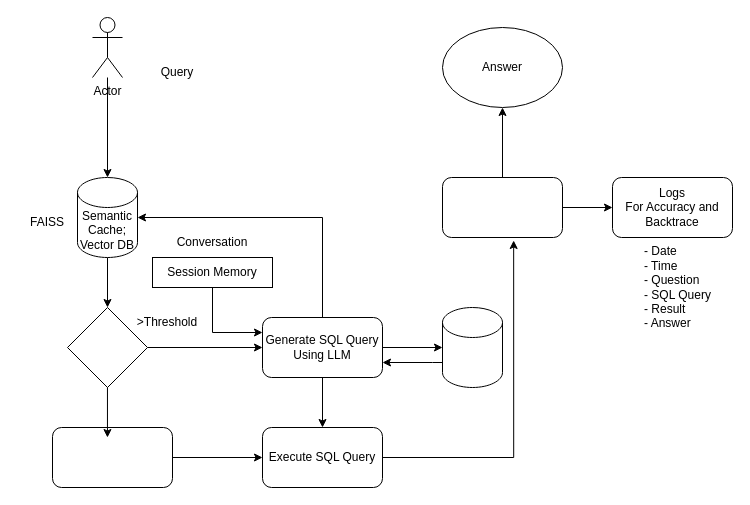
Some shapes in this 750 by 505 pixel diagram are drawn without their labels. The centre of each missing label's shape, as x and y in pixels:
"LLM Call for Final Answer" goes at (502,207).
"Question Matched?" goes at (107,347).
"SQL DB" goes at (472,347).
"SQL Query" goes at (112,457).
